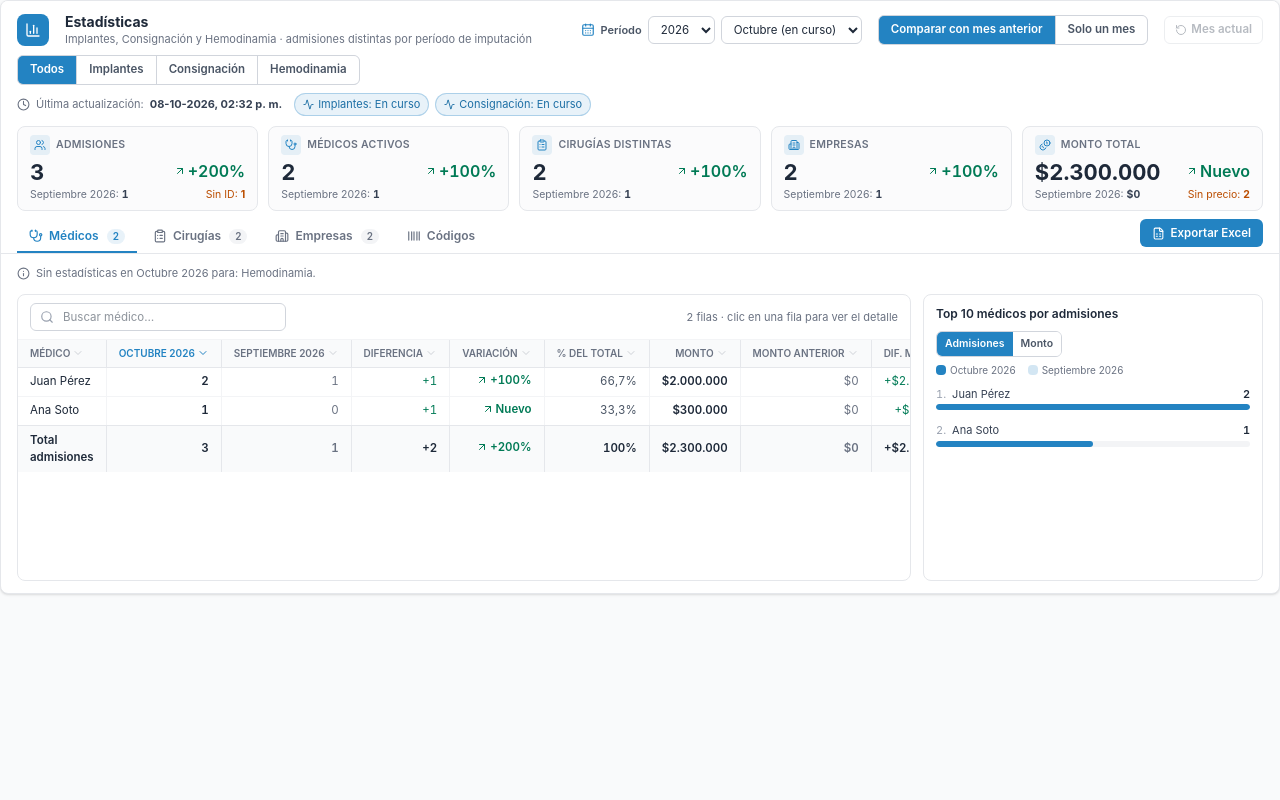
Estadísticas: montos y códigos › los códigos se leen solo al abrir la pestaña; precio promedio con variación y detalle
Expected: the button "Juan Pérez" is shown, [30,373,91,390]
Click the tab "Códigos".
click(441, 237)  # box [395,221,487,253]
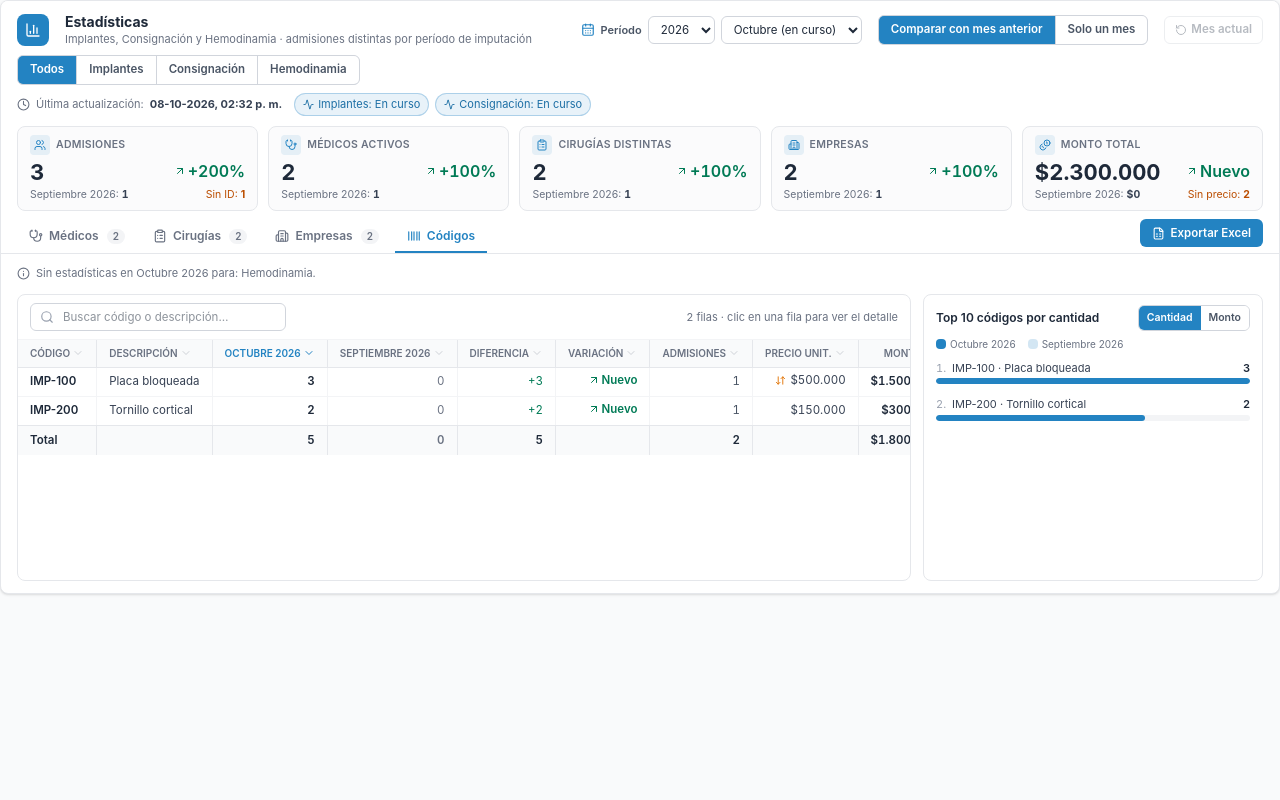
Expected: the row "IMP-100" shows "Placa bloqueada", [109,374,200,388]
Expected: the row "IMP-100" shows "$500.000", [790,373,846,387]
Expected: the icon named "Precio con variación" is shown, [775,375,786,386]
Click the button "IMP-100".
click(53, 382)  # box [30,373,76,390]
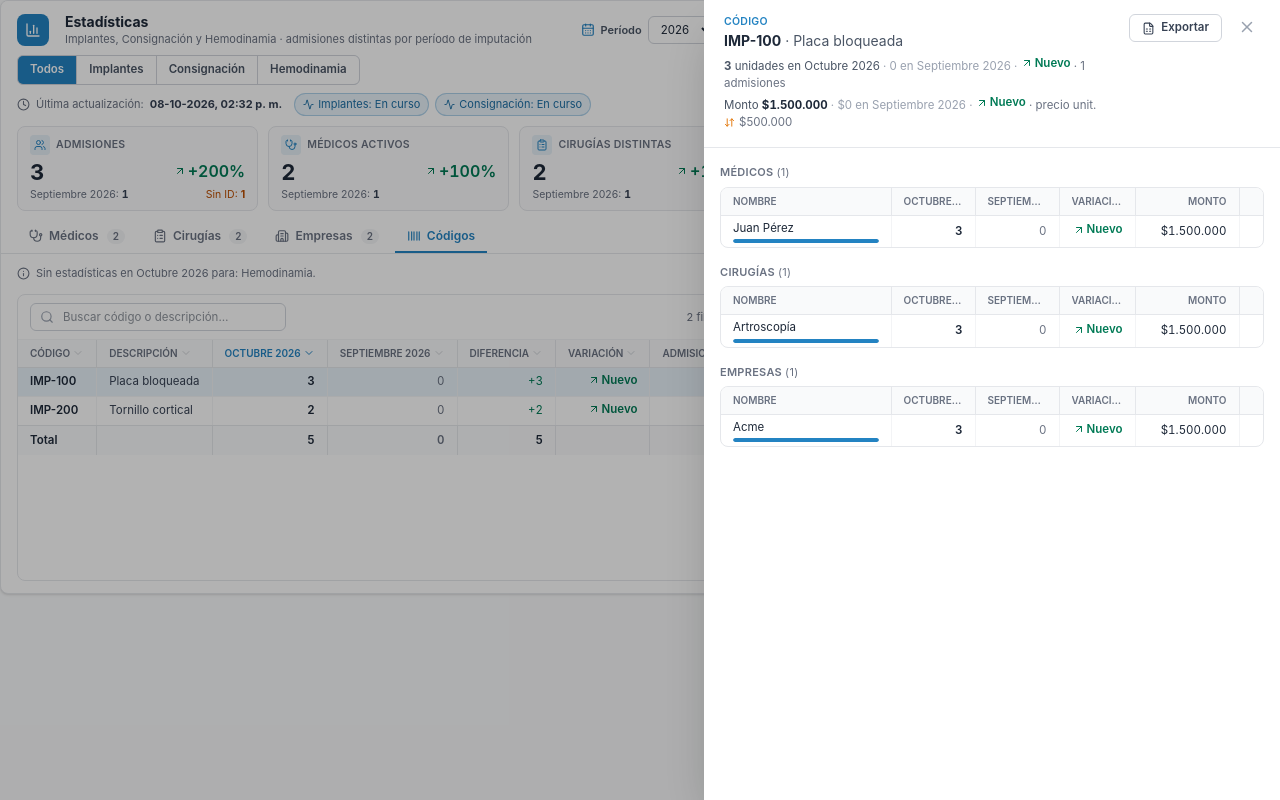
Expected: the heading "Médicos (1)" is shown, [720,165,790,179]
Expected: the text "Juan Pérez" is shown, [733,221,794,235]
